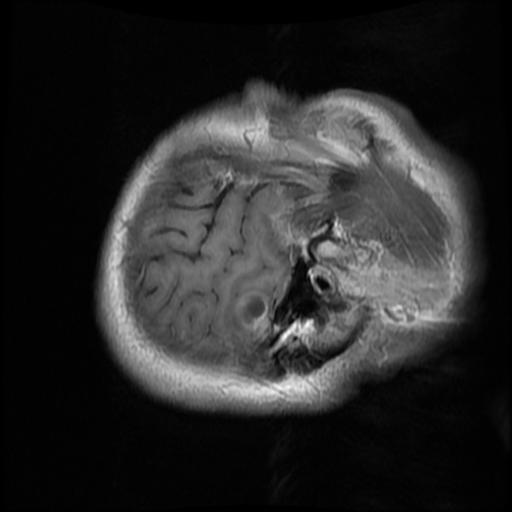glioma: (230, 288, 274, 339)
